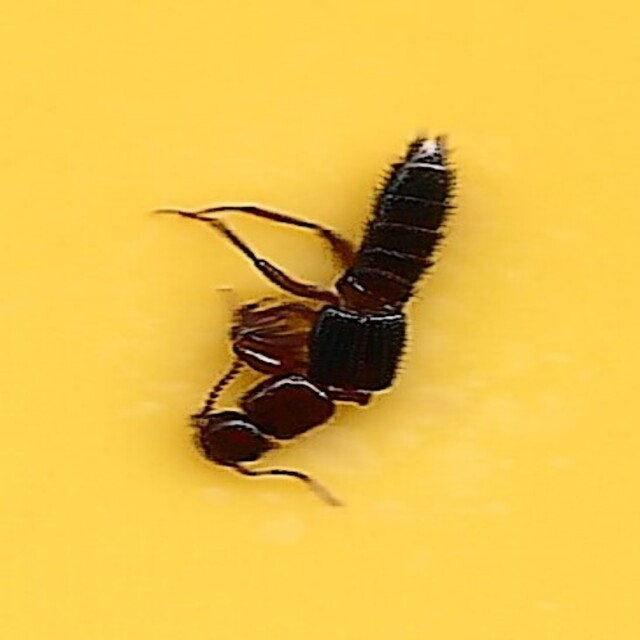Coleoptera: (175, 129, 465, 511)
